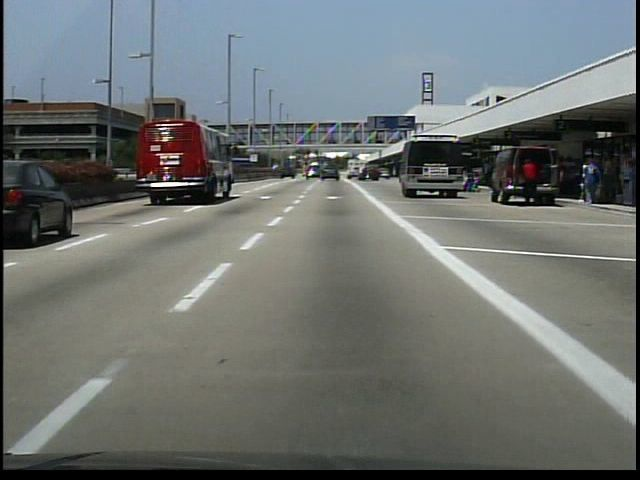person: (521, 154, 542, 210)
